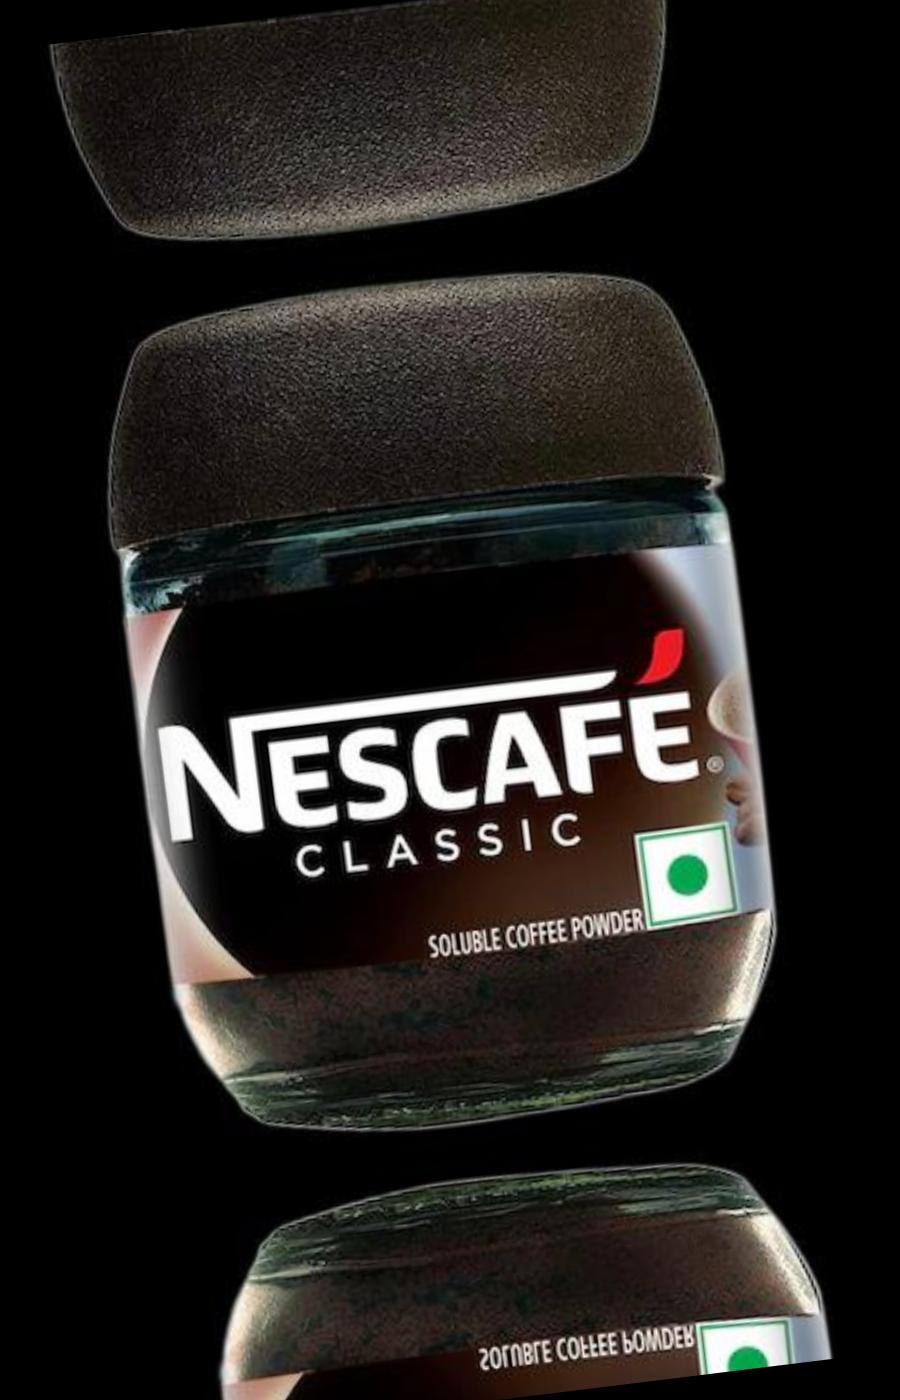Nescafe Classic Instant Coffee 24 g: (83, 236, 790, 1141), (50, 0, 684, 273), (195, 1154, 826, 1400)
